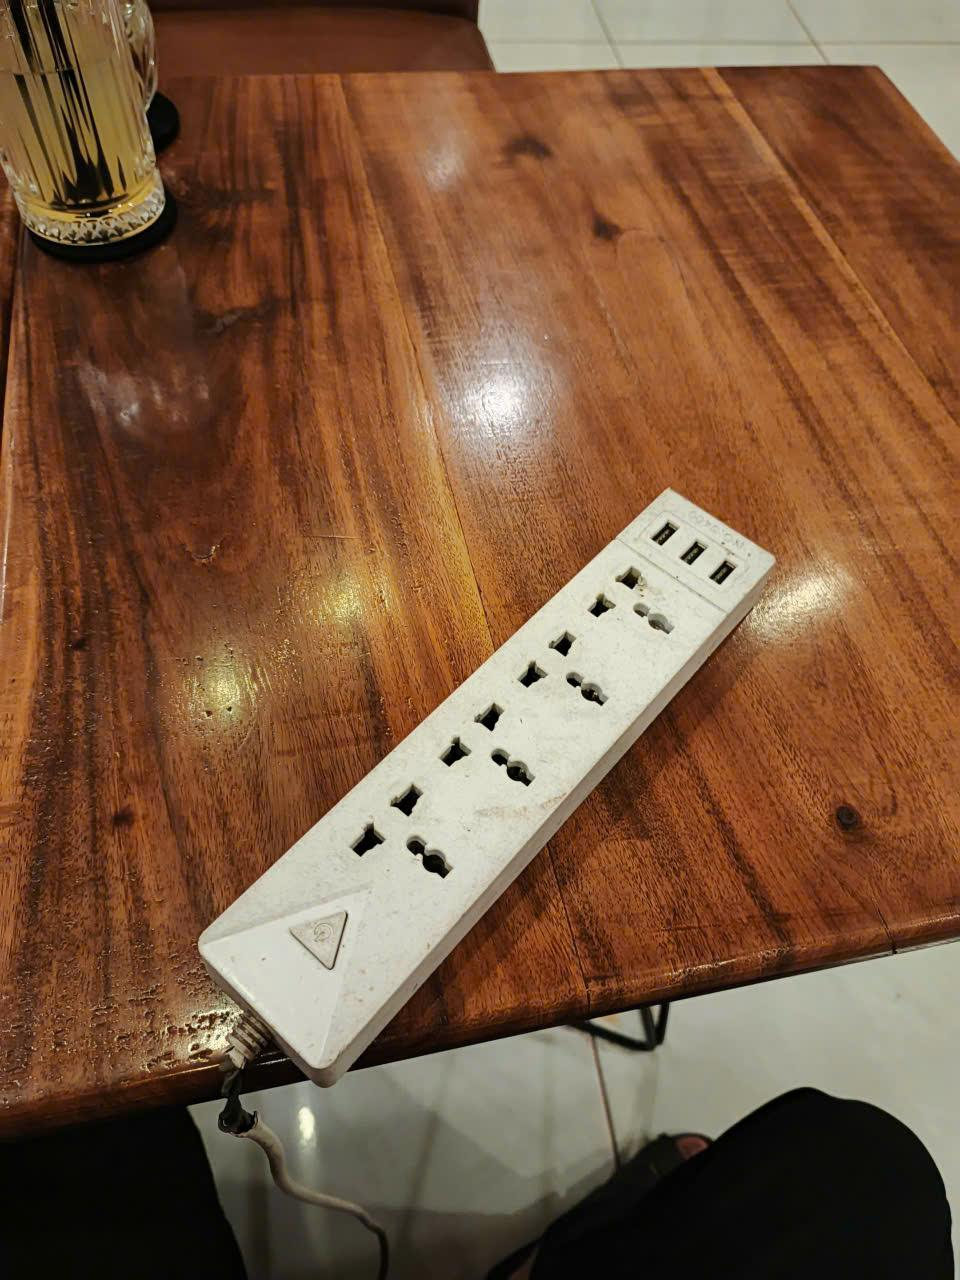Con lai: (190, 481, 784, 1097)
